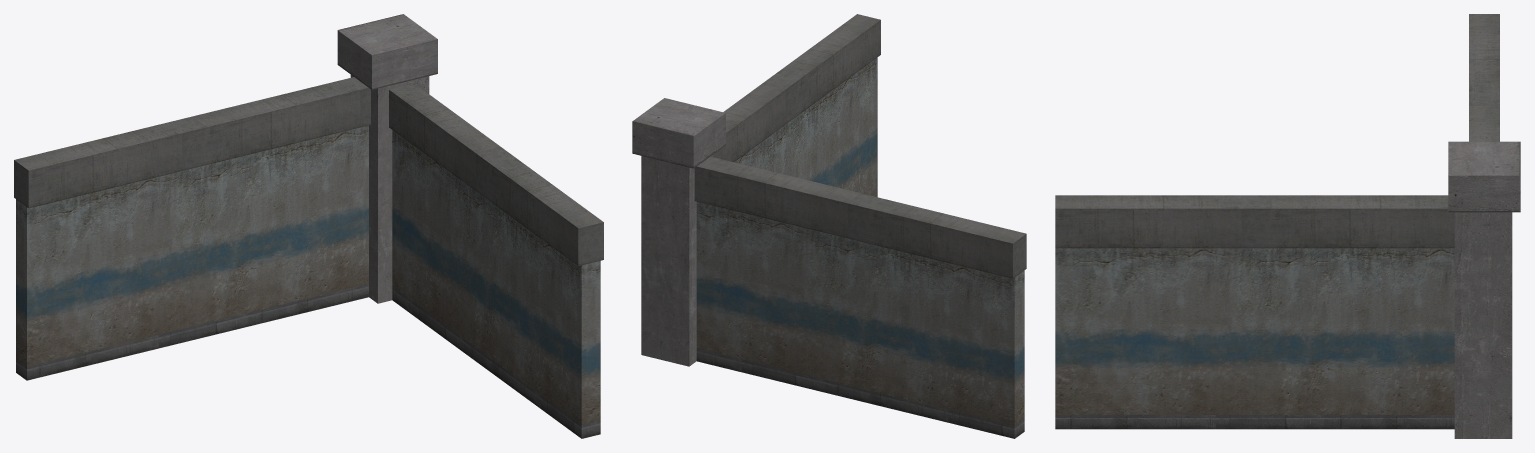
The model's file is Cover_WallA3.glb.
The picture shows the model from 3 angles, left to right: view 1: azimuth 30°, elevation 25°; view 2: azimuth 150°, elevation 25°; view 3: azimuth 270°, elevation 25°; orthographic projection. The views are drawn at different scales.
Parts seen in each view (by area): view 1: xiutz_wall_a3; view 2: xiutz_wall_a3; view 3: xiutz_wall_a3.
Boxes of the visible parts, x1,y1,x2,y2 form: xiutz_wall_a3: (14,14,603,438); xiutz_wall_a3: (632,14,1026,438); xiutz_wall_a3: (1055,14,1520,438).
Bounding box in the file's own units: 5.16 × 3.12 × 4.94.
1 material, 1 textured.
